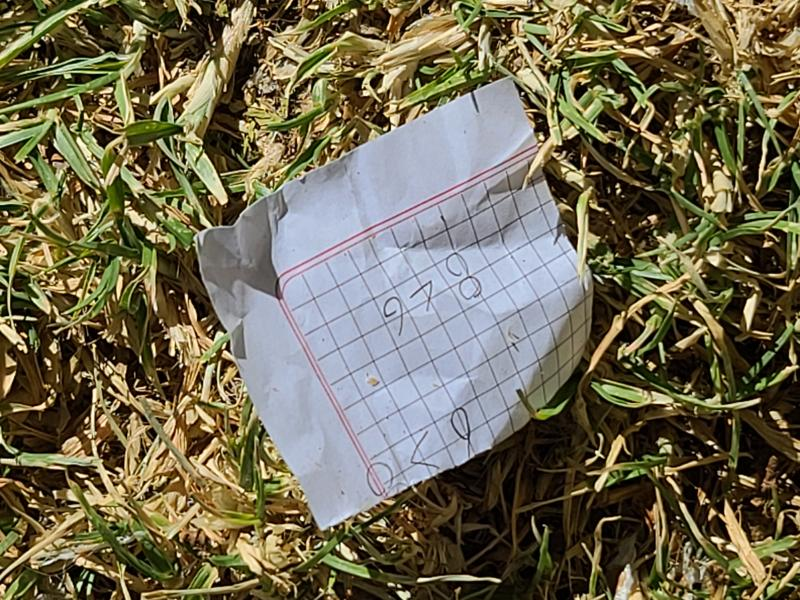papel: (195, 78, 594, 532)
